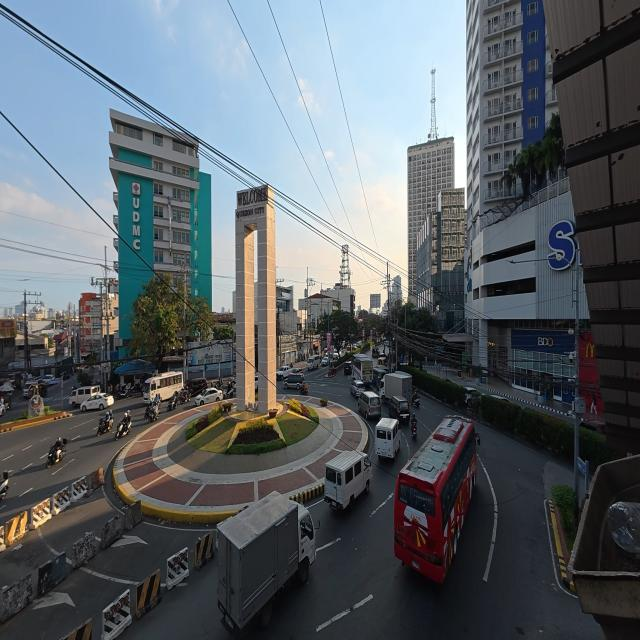bus: (394, 416, 479, 582), (144, 372, 183, 402), (352, 354, 373, 384)
car: (81, 393, 114, 411), (389, 396, 410, 422), (195, 388, 222, 405), (185, 378, 208, 397), (580, 419, 605, 434), (284, 373, 304, 389), (350, 380, 365, 398), (465, 387, 479, 404), (276, 365, 291, 380), (490, 394, 512, 403), (42, 375, 60, 385), (344, 361, 351, 375), (42, 375, 54, 383), (254, 373, 259, 391), (321, 356, 329, 366), (291, 368, 303, 373)
motorcycle: (46, 439, 67, 467), (115, 417, 131, 440), (97, 417, 112, 436), (0, 471, 9, 500), (147, 404, 160, 424), (223, 383, 236, 399), (167, 394, 178, 412), (180, 388, 191, 404), (0, 398, 10, 415), (411, 415, 417, 438), (145, 403, 153, 420), (411, 394, 420, 408), (119, 387, 129, 399), (300, 382, 308, 396), (0, 403, 7, 416)
trucks: (218, 492, 315, 633), (380, 373, 412, 402)
vans: (325, 451, 372, 510), (375, 418, 400, 459), (70, 386, 100, 407), (359, 391, 381, 419), (23, 381, 38, 397), (307, 355, 320, 370)
